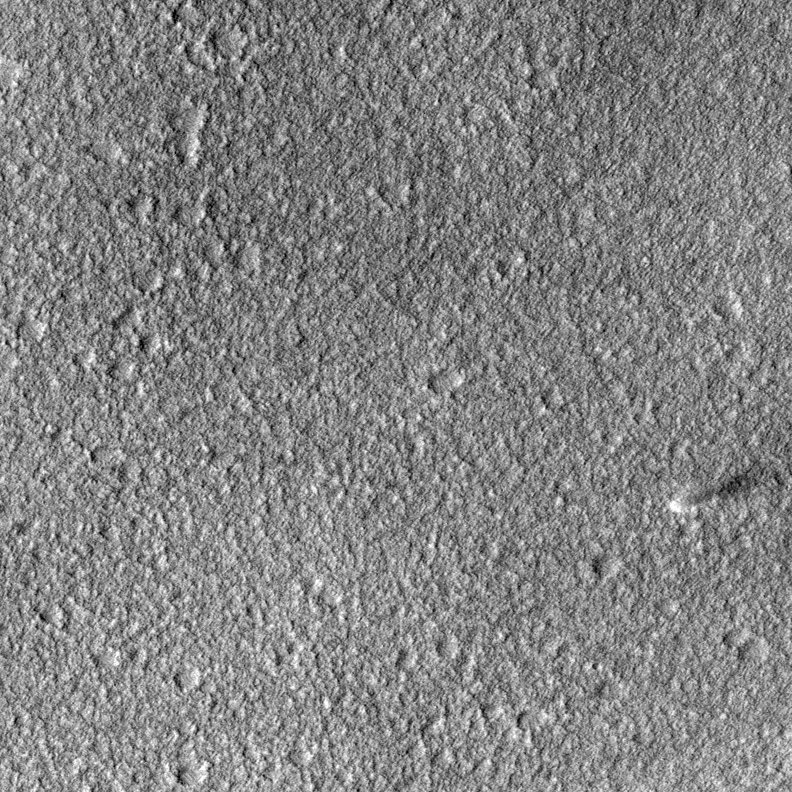dust_devil: (665, 461, 782, 517)
